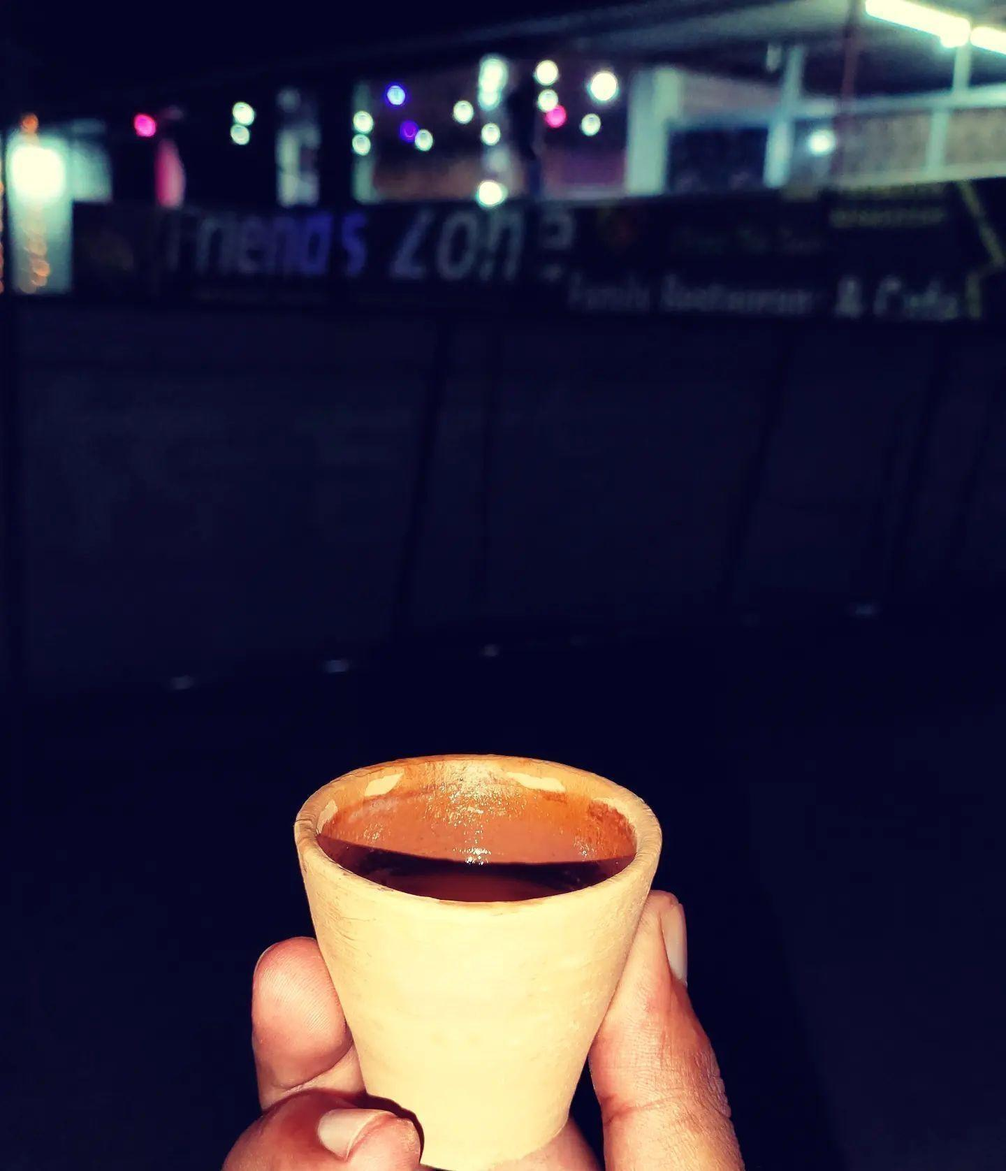cup-disposable: (290, 739, 674, 1168)
